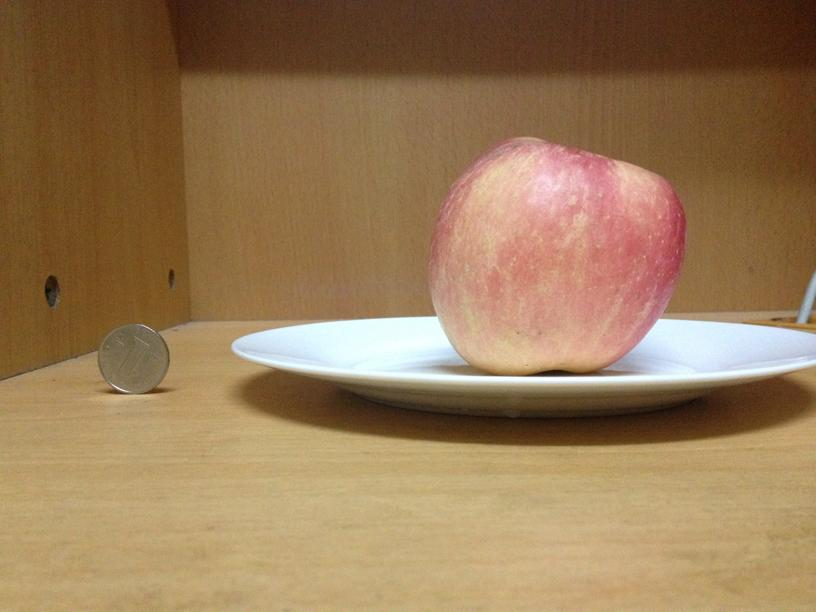apple: (423, 136, 688, 375)
coin: (94, 322, 171, 393)
